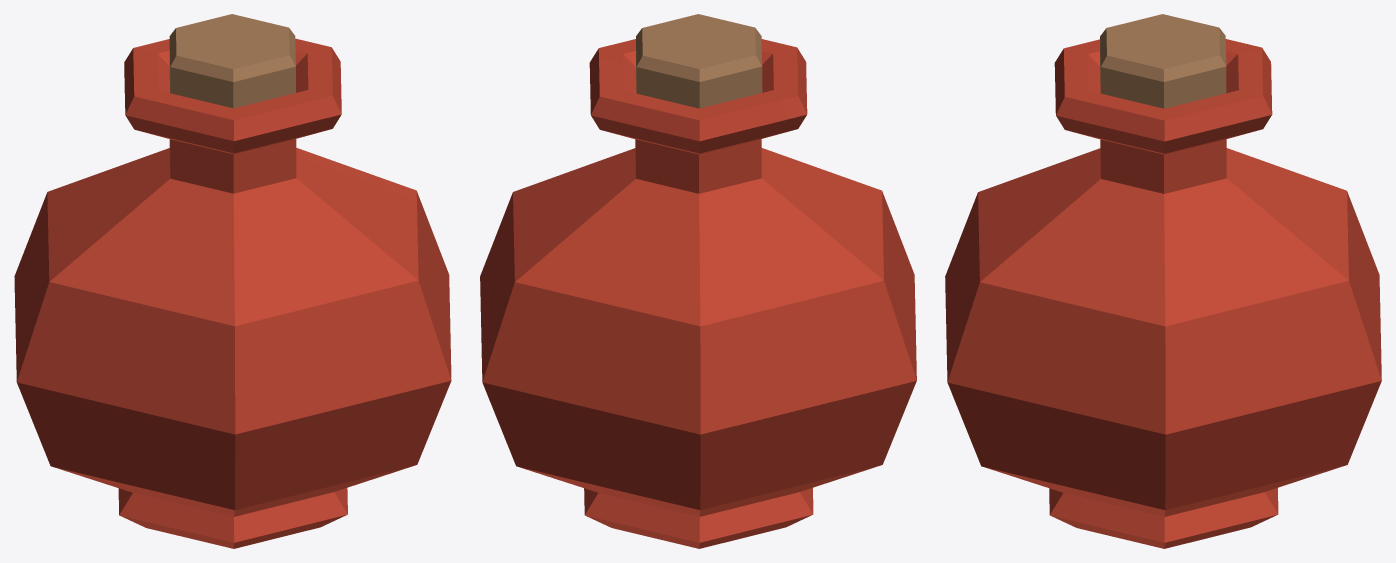
The model's file is Red_Potion_15.fbx.
3 renders of one model, left to right at view 1: azimuth 30°, elevation 25°; view 2: azimuth 150°, elevation 25°; view 3: azimuth 270°, elevation 25°, orthographic.
Parts seen in each view (by area): view 1: Red_Potion_15; view 2: Red_Potion_15; view 3: Red_Potion_15.
Boxes of the visible parts, x1=… form: Red_Potion_15: x1=14, y1=14, x2=451, y2=548; Red_Potion_15: x1=480, y1=14, x2=916, y2=548; Red_Potion_15: x1=945, y1=14, x2=1381, y2=548.
Size of the model in its own units: 20.32 by 20.77 by 17.69.
